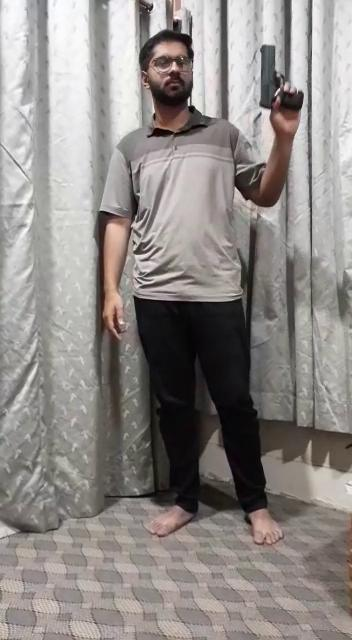criminal: (96, 29, 307, 550)
weapon: (256, 43, 306, 117)
